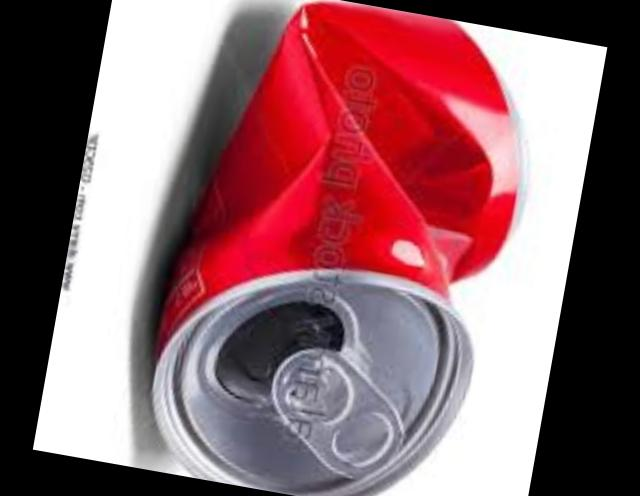metal: (156, 6, 525, 496)
